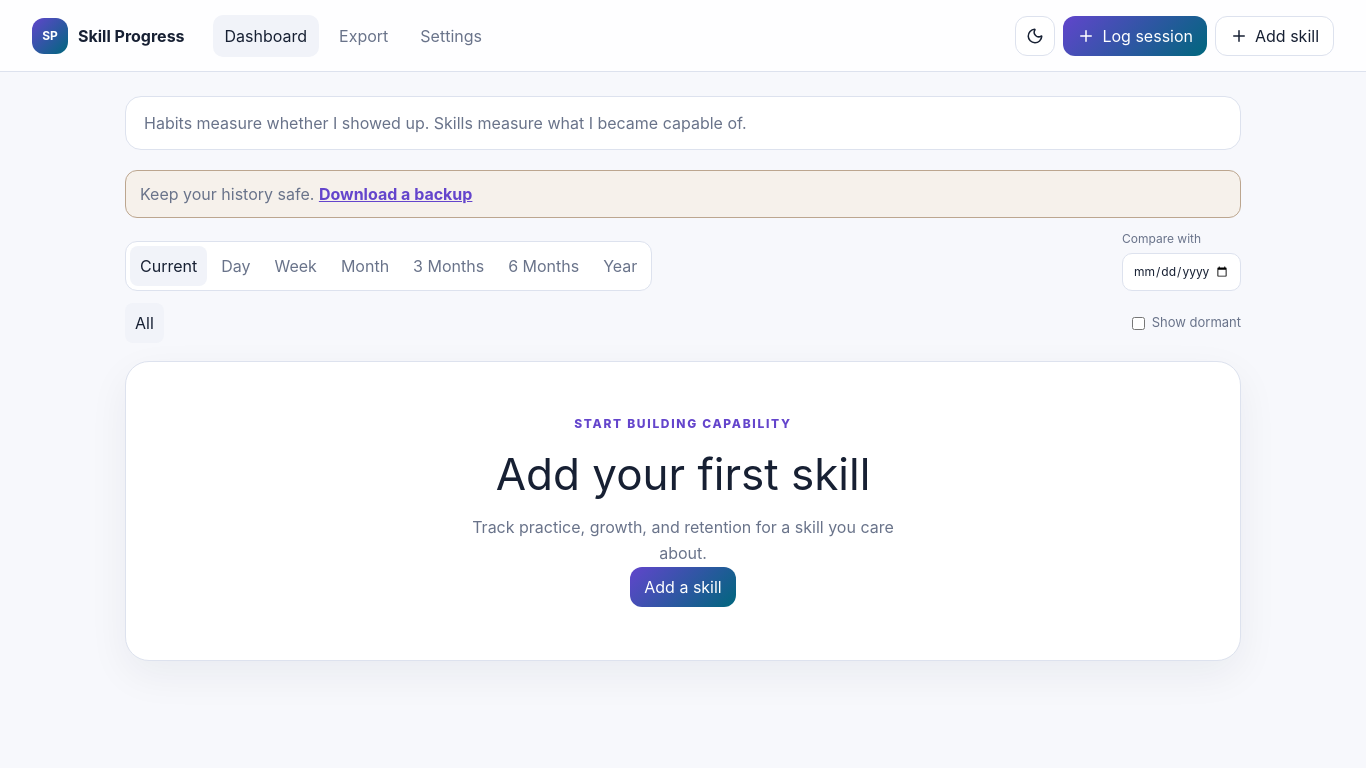
Scenario: app shell › offers an add-skill action when the saved tracker is empty
Click the button "Add a skill": (683, 587) [630,567,736,607]
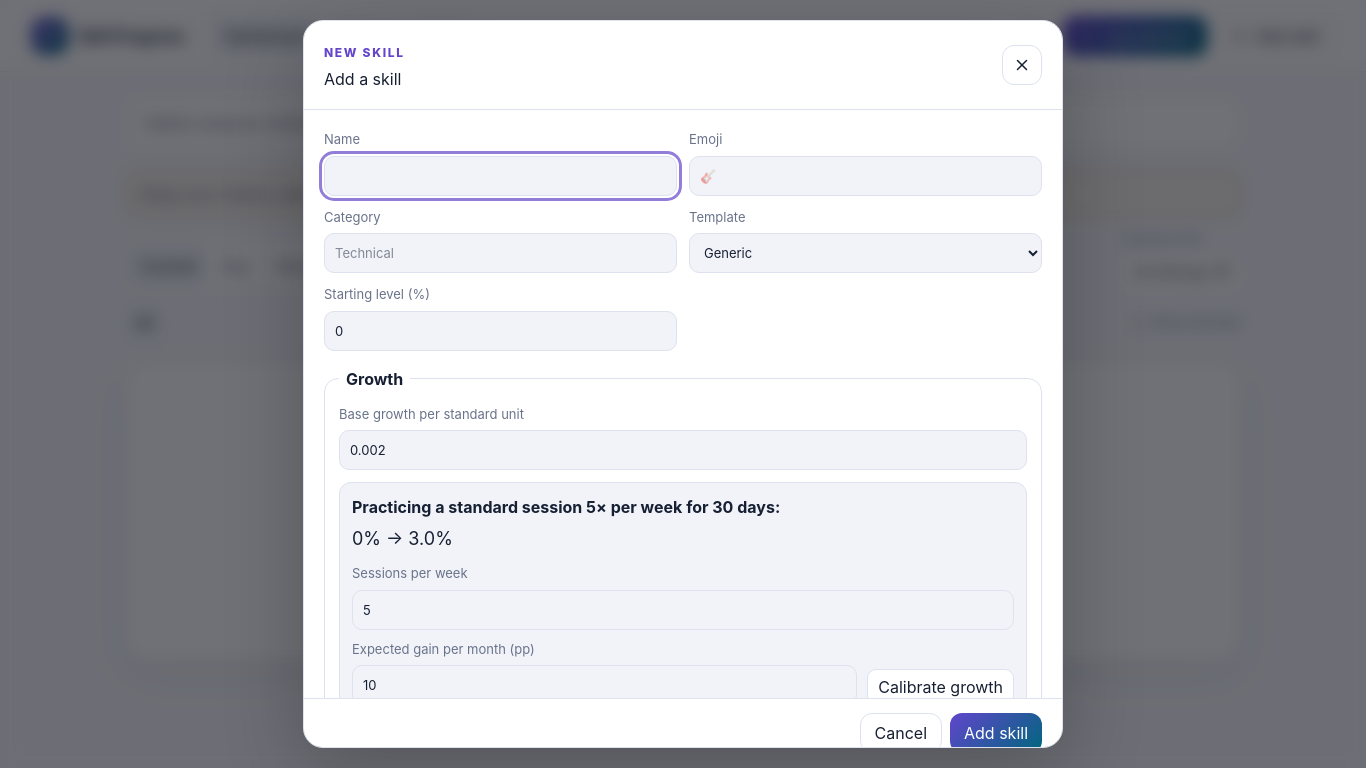
Expected: the dialog named "Add skill" is shown, [303,20,1063,748]
